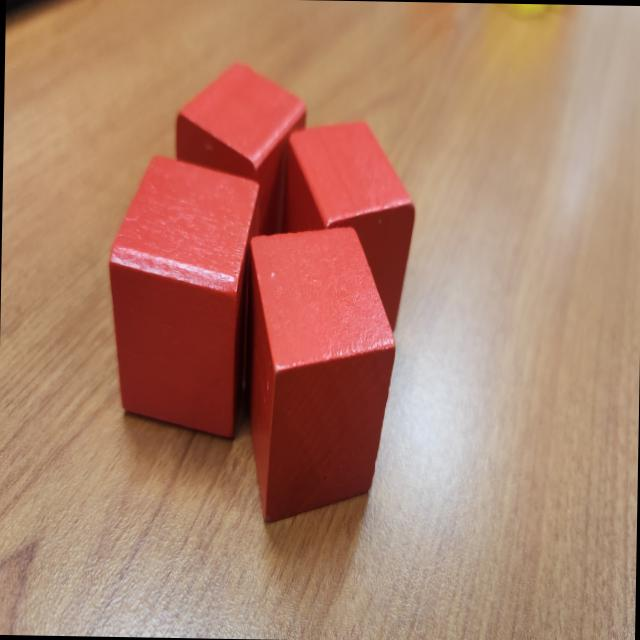red: (244, 222, 398, 527), (105, 152, 262, 446), (283, 118, 417, 334), (172, 62, 306, 244)
